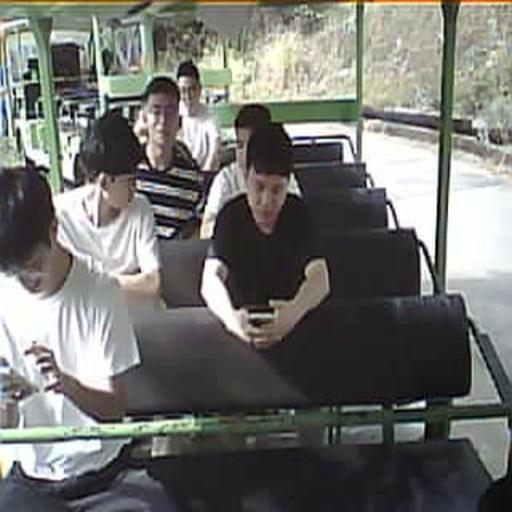persona: (0, 165, 178, 510), (199, 122, 332, 352), (53, 112, 164, 302), (200, 103, 302, 240), (132, 75, 206, 242), (175, 60, 222, 174)
